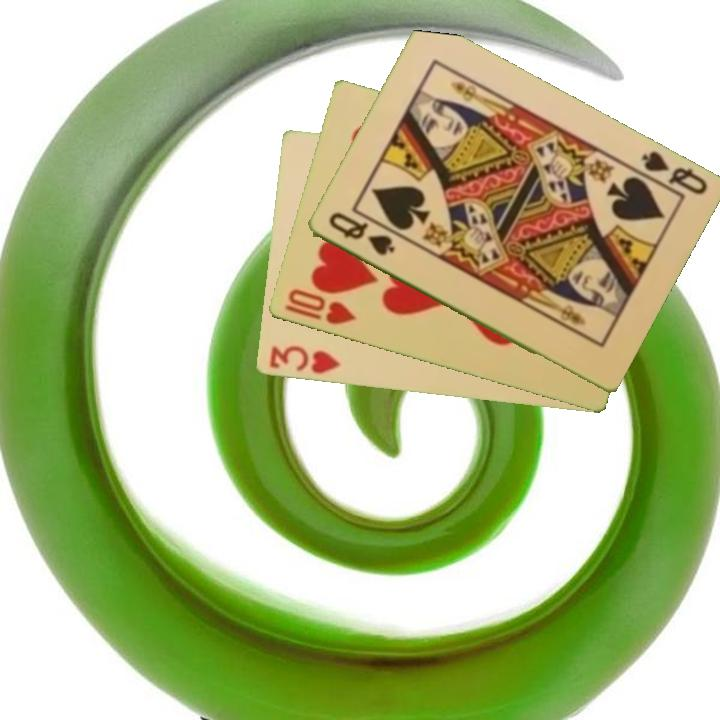10h: (280, 285, 359, 328)
3h: (266, 342, 343, 377)
Qs: (630, 147, 710, 200), (324, 208, 398, 259)
